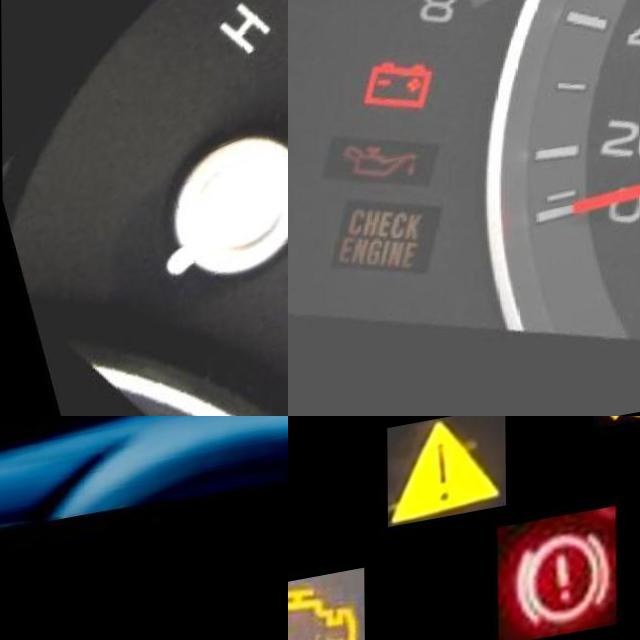Central Warning lamp: (387, 420, 505, 537)
